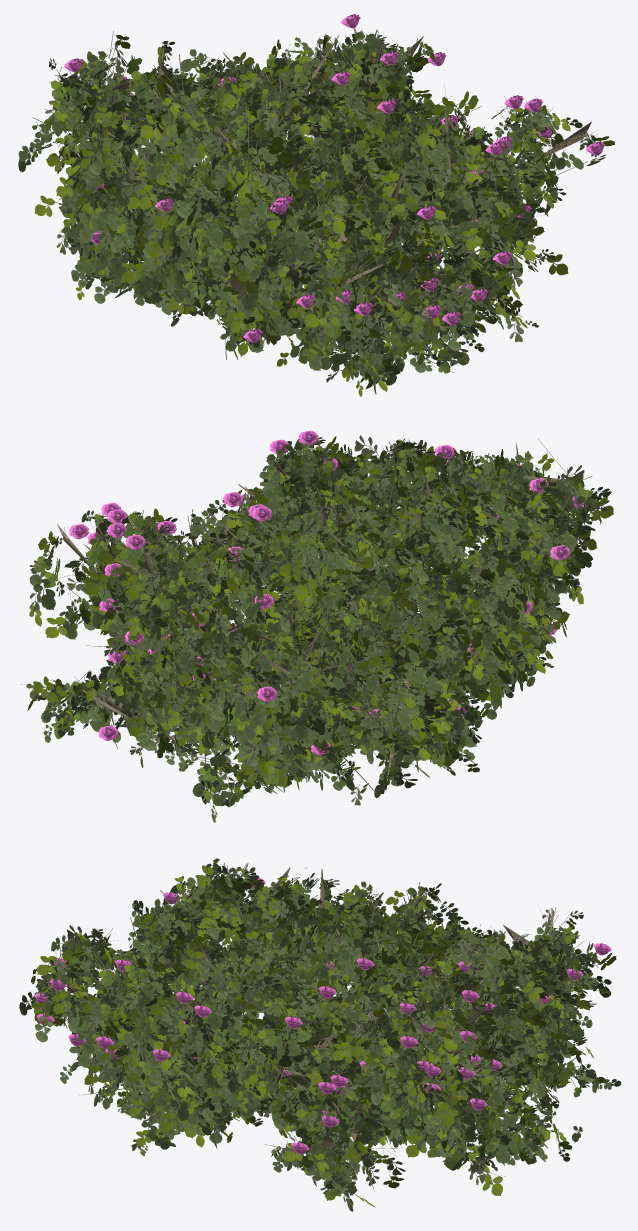
Rendered from rose-bush.glb.
3 views of the same model, one above another, from view 1: azimuth 30°, elevation 25°; view 2: azimuth 150°, elevation 25°; view 3: azimuth 270°, elevation 25° (orthographic). The views are drawn at different scales.
Visible parts, largest first — view 1: Bush; view 2: Bush; view 3: Bush.
Part boxes in pixels (x1,y1,x2,y2): Bush: [18, 27, 615, 396]; Bush: [21, 435, 613, 822]; Bush: [19, 858, 621, 1211].
Bounding box in the file's own units: 1.26 × 0.5328 × 1.42.
3 materials, 3 textured.
